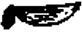Basket: (1, 2, 83, 29)
